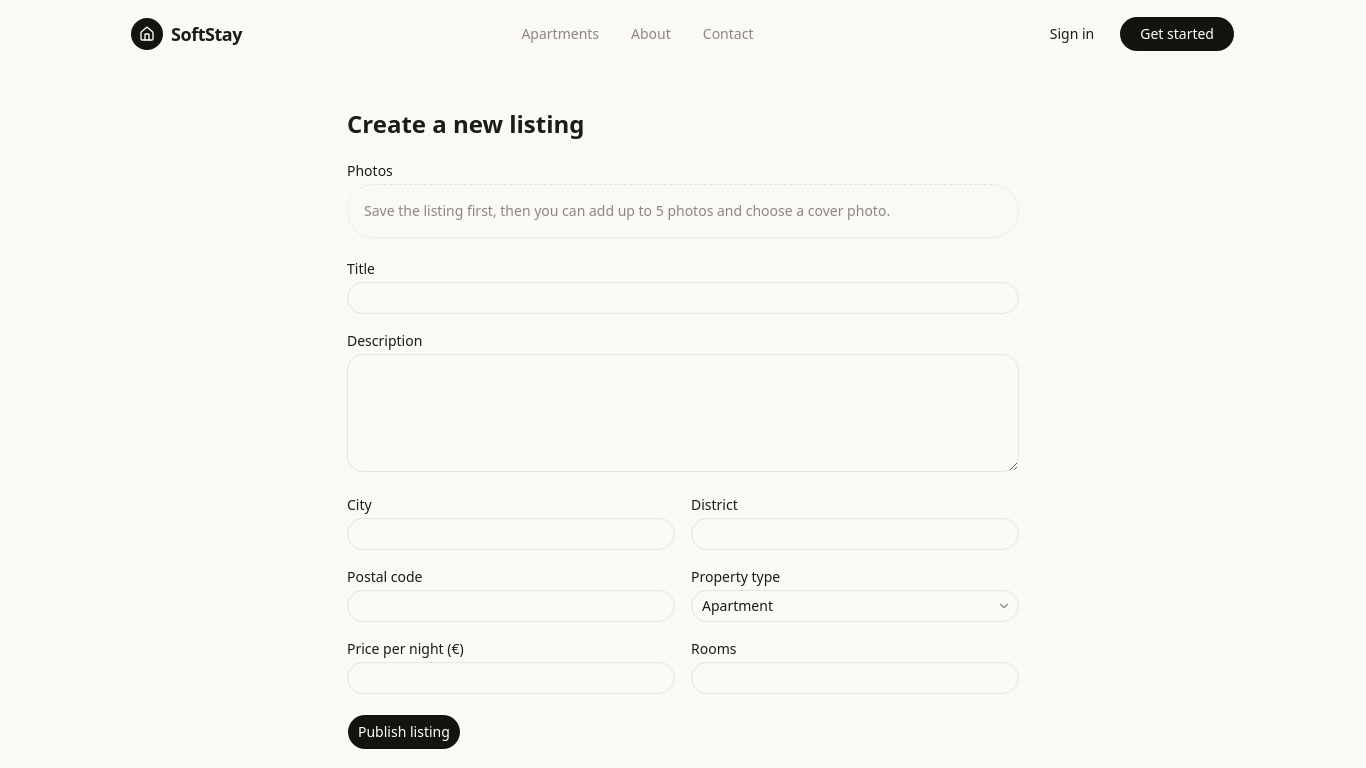
Scenario: ListingFormPage › surfaces a server-side price validation error on submit
Type "Nice apartment in Berlin" into the field labelled "Title" at coordinates (683, 298), box [347, 282, 1019, 314]
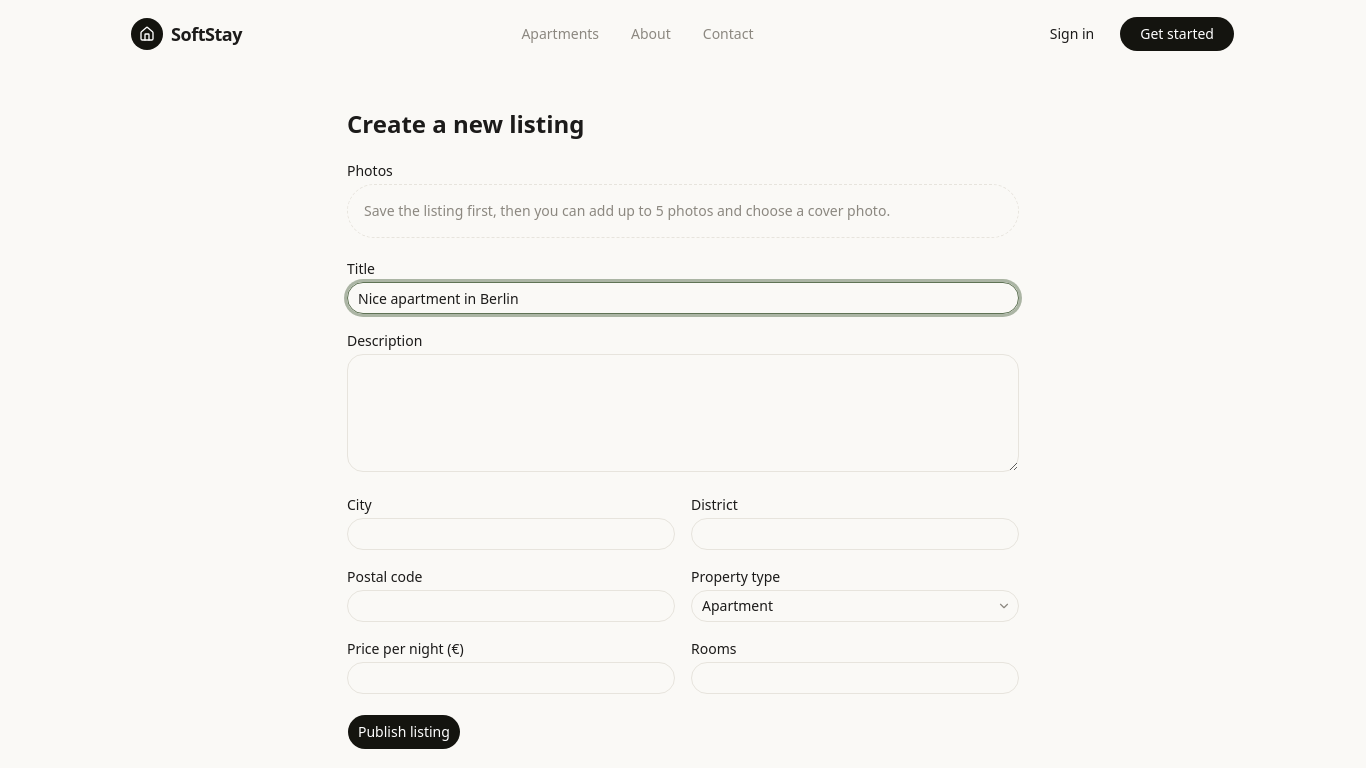
Type "Beautiful 2-room apartment in city center." into the text box labelled "Description" at coordinates (683, 413), box [347, 354, 1019, 472]
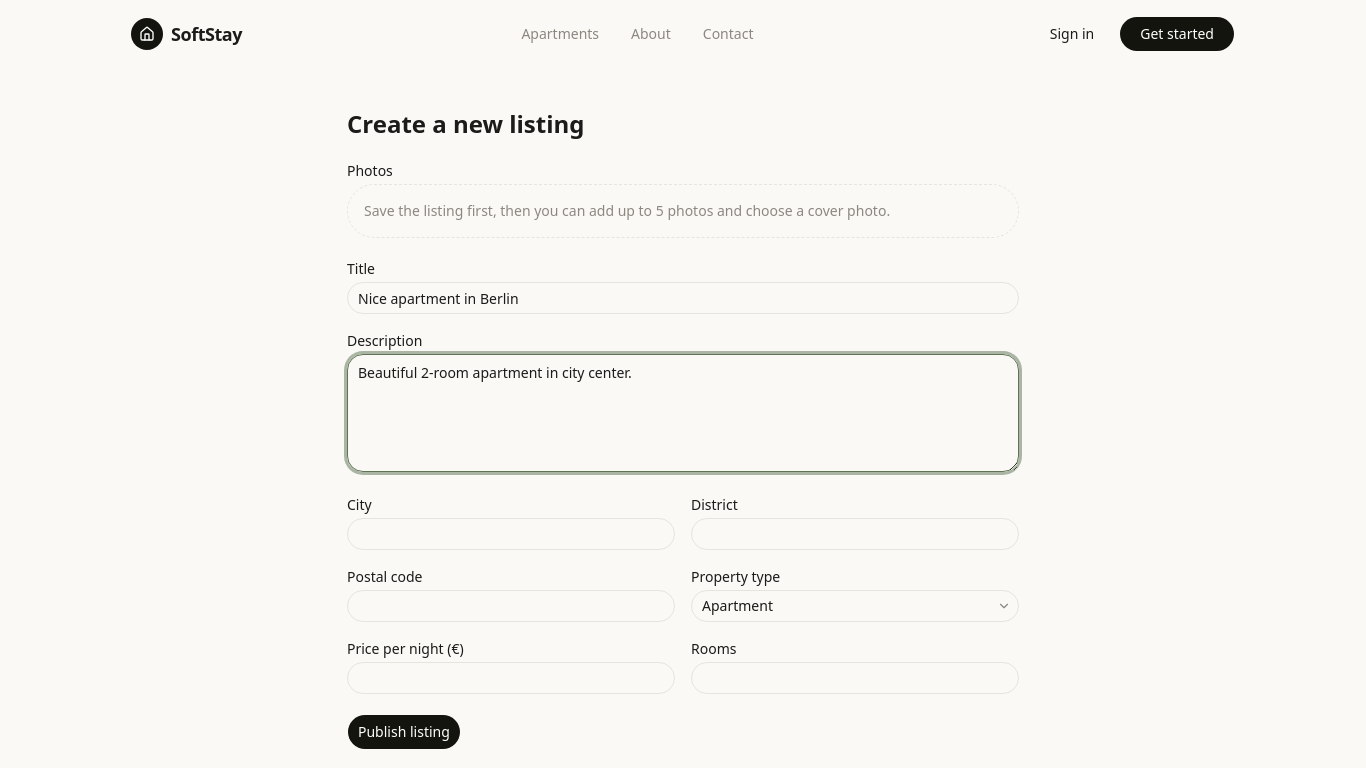
Type "Berlin" into the field labelled "City" at coordinates (511, 534), box [347, 518, 675, 550]
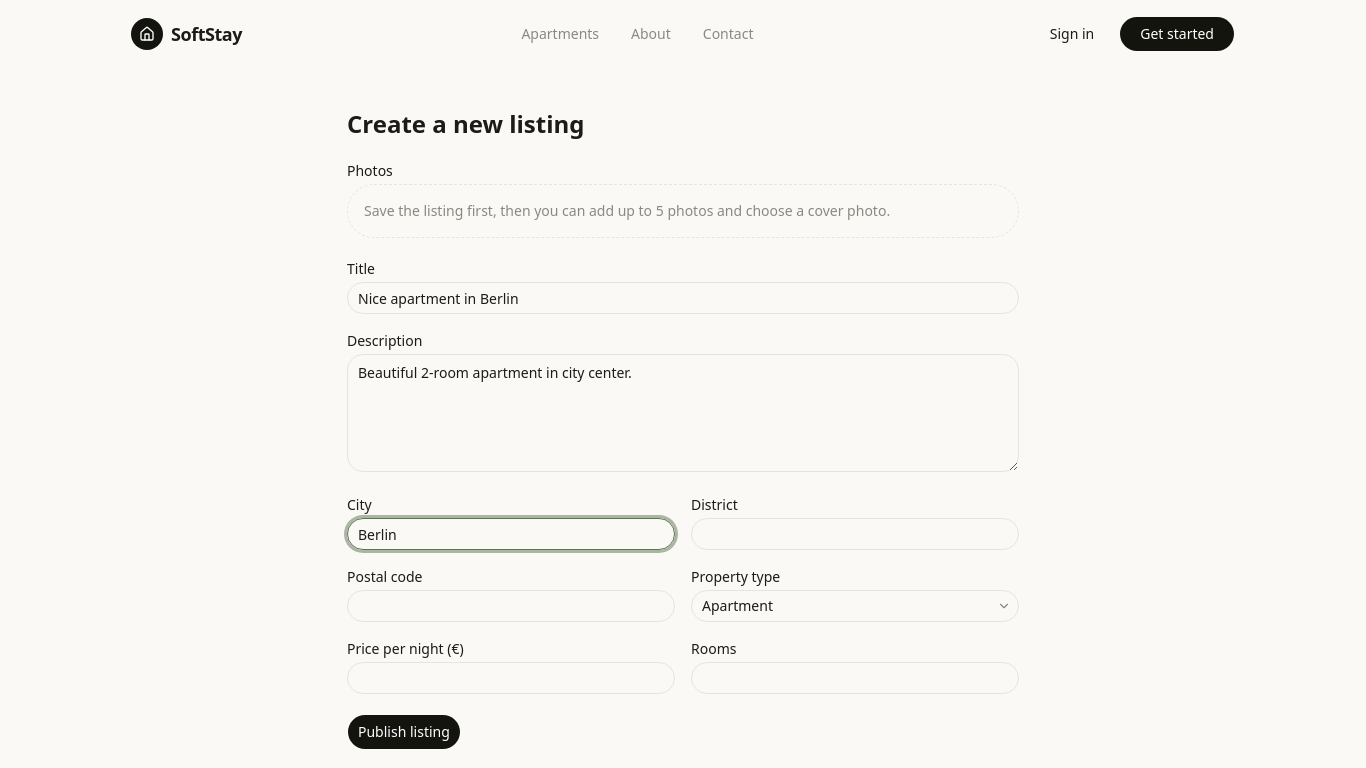
Type "1200" into the number field labelled "Price per night (€)" at coordinates (511, 678), box [347, 662, 675, 694]
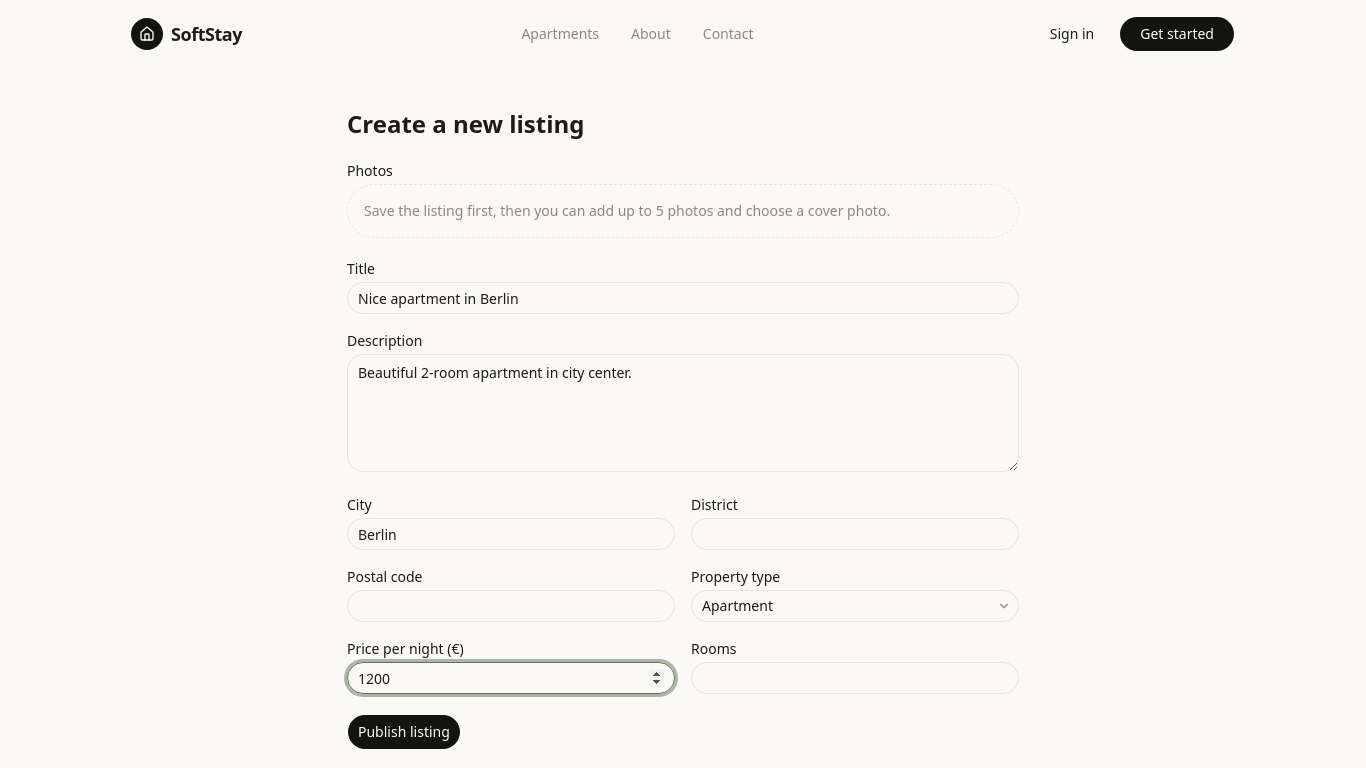
Type "2" into the number field labelled "Rooms" at coordinates (855, 678), box [691, 662, 1019, 694]
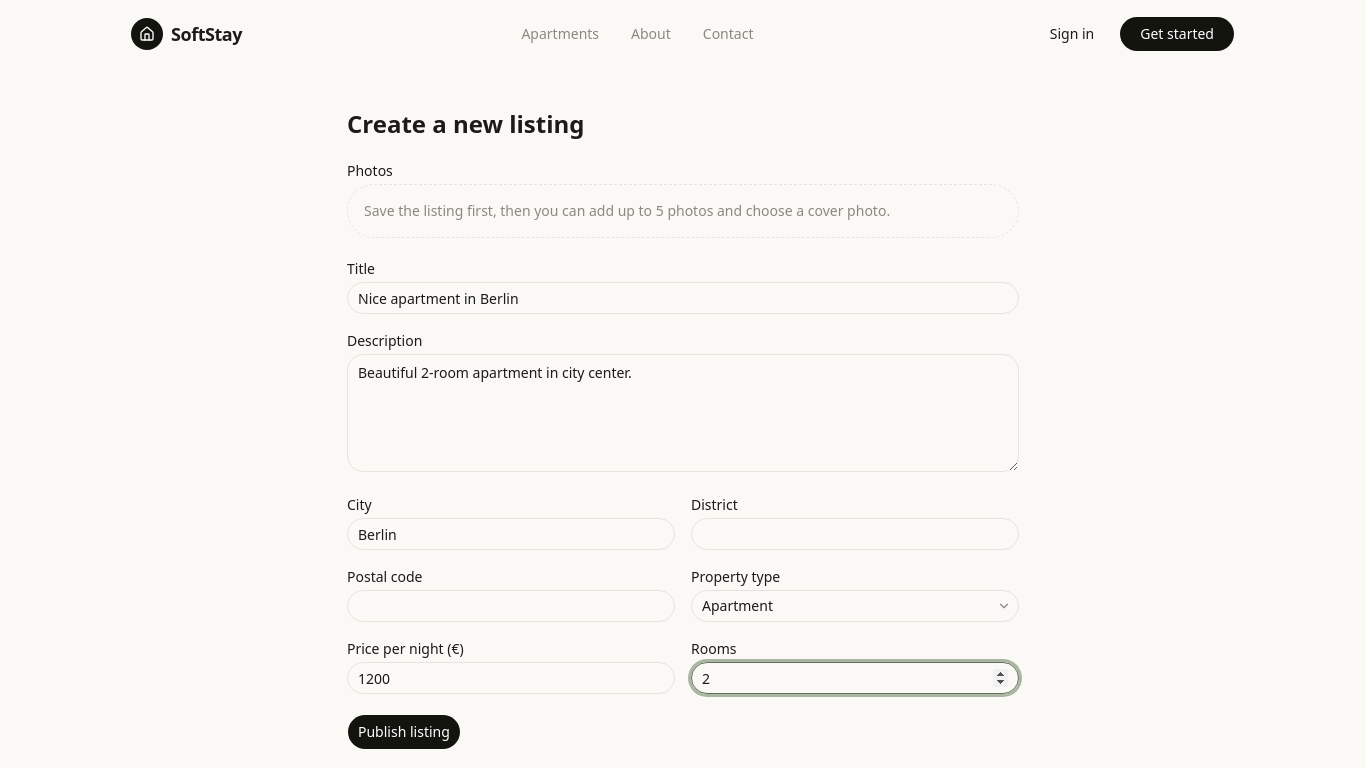
Click the button "Publish listing" at coordinates (404, 732), box [347, 714, 461, 750]
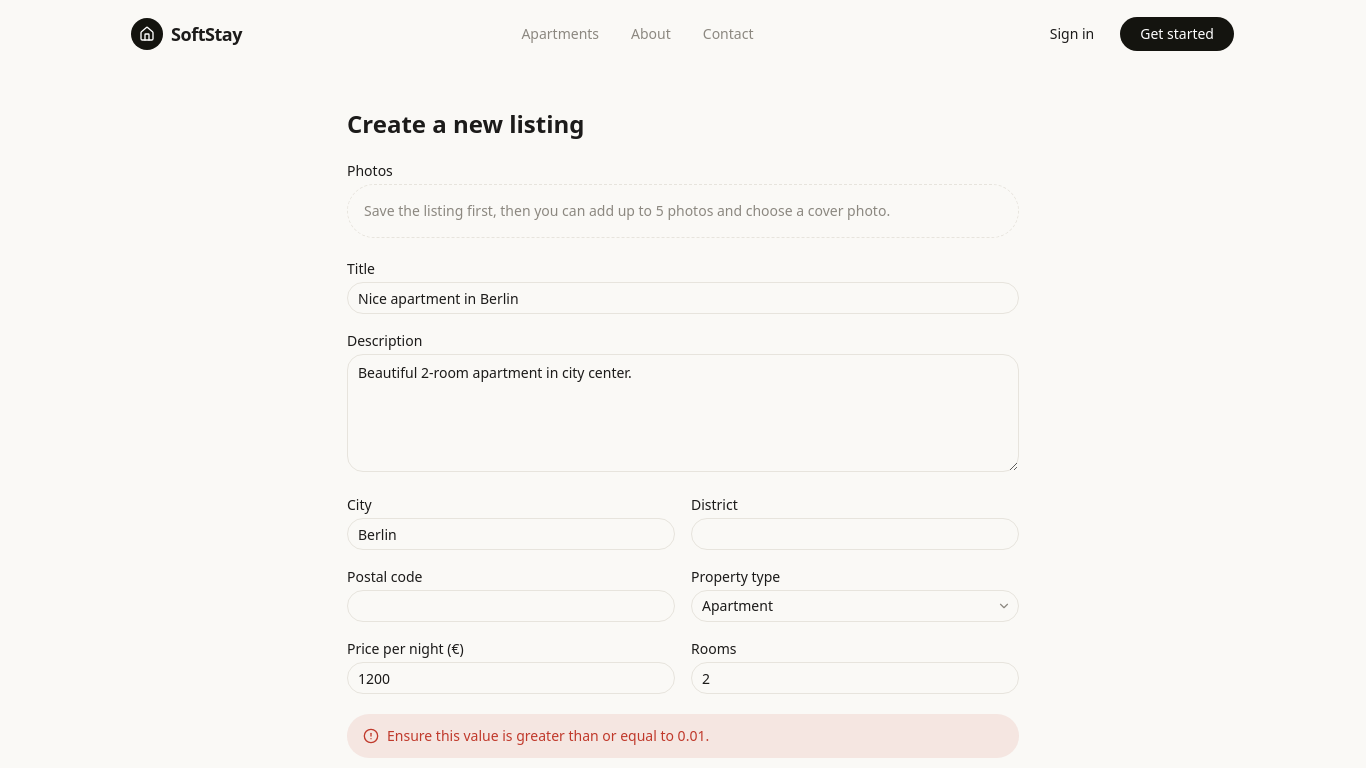
expect the text "Ensure this value is greater than or equal to 0.01." is shown: met, box [387, 726, 709, 746]
